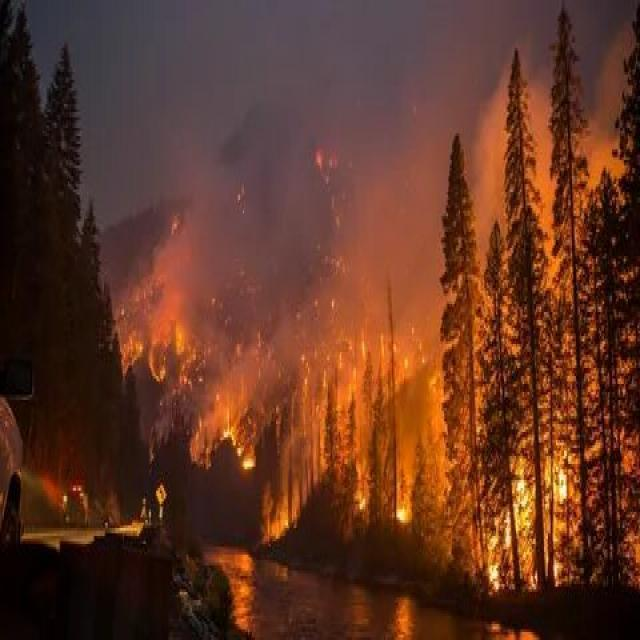Fire: (436, 409, 610, 606)
